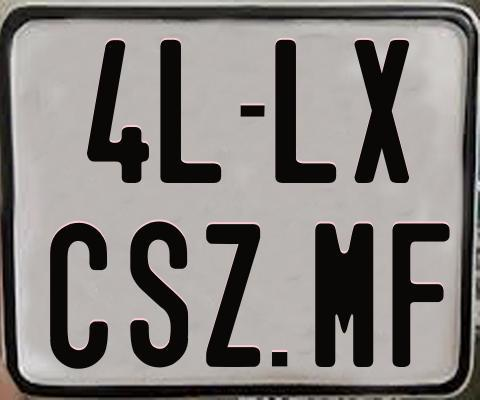4: (85, 38, 150, 186)
C: (48, 222, 106, 369)
F: (392, 221, 451, 370)
L: (157, 39, 223, 187), (274, 38, 336, 187)
M: (315, 222, 377, 372)
S: (128, 221, 189, 370)
X: (354, 40, 409, 187)
Z: (204, 224, 260, 373)
